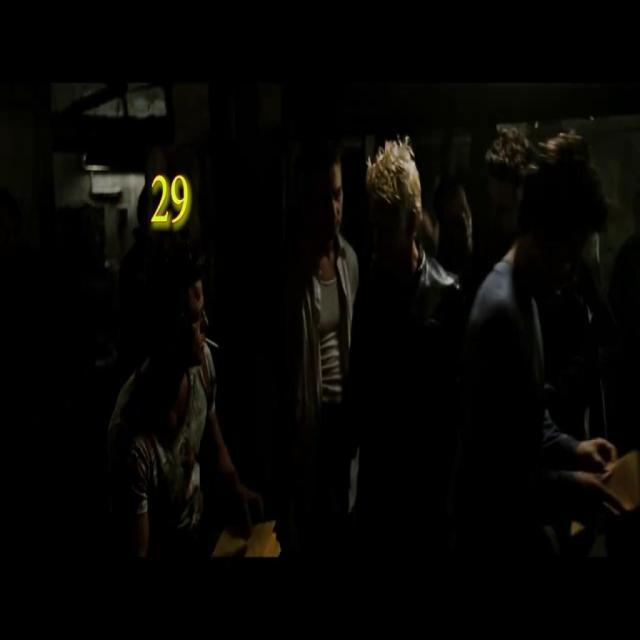smoking: (204, 336, 220, 348)
